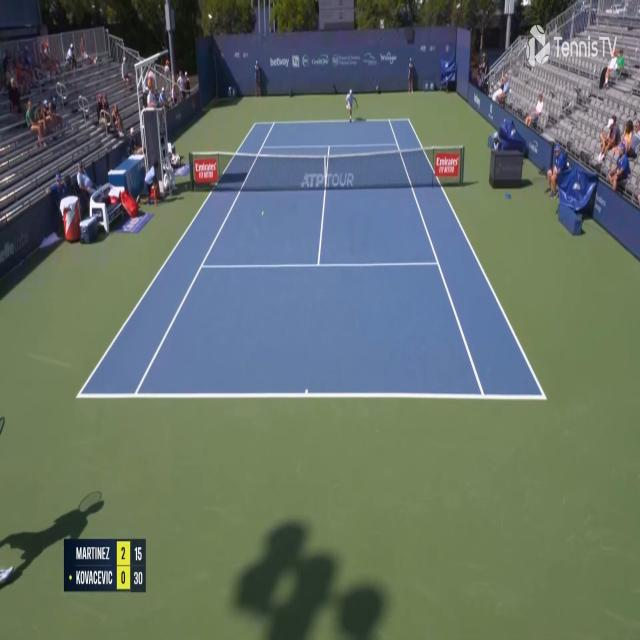tennis-player: (344, 86, 359, 124)
